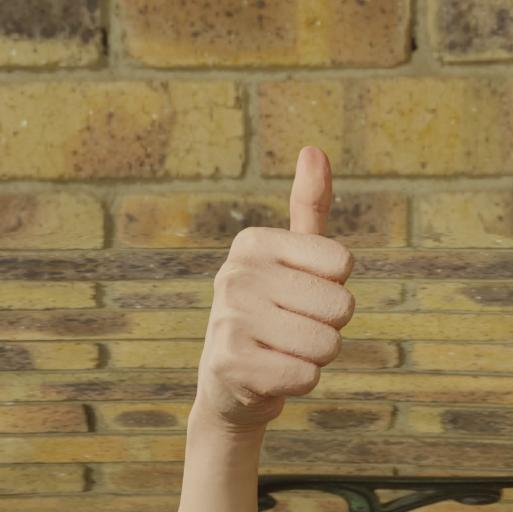thumbs-up: (196, 137, 362, 423)
